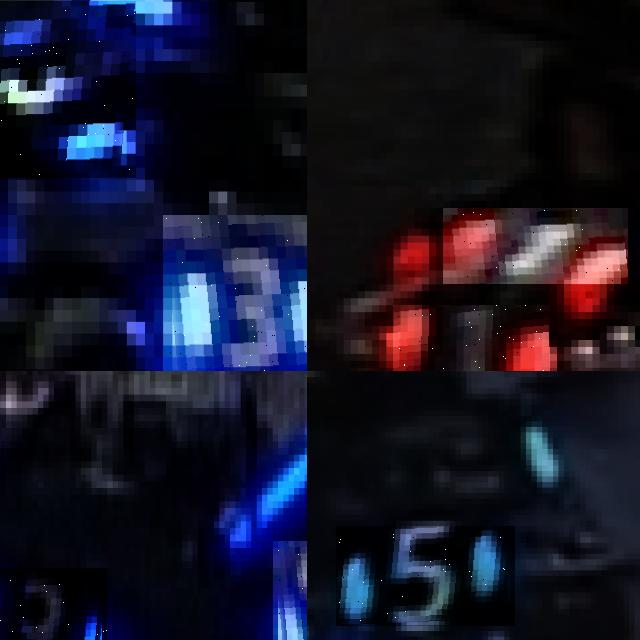B3: (0, 1, 135, 179), (163, 215, 307, 371), (0, 568, 107, 640), (272, 541, 307, 640)
B5: (336, 526, 515, 626)
R1: (443, 208, 628, 284), (393, 305, 549, 371)
